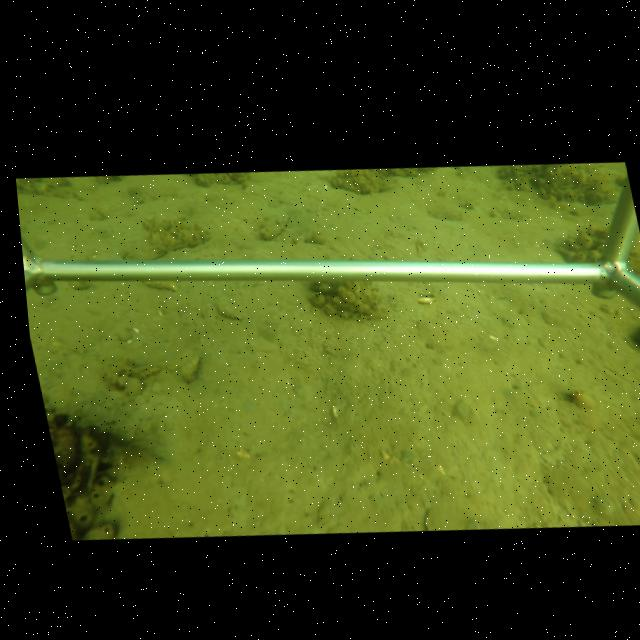Oyster-Closed: (255, 211, 293, 241)
Oyster-Indeterminate: (119, 221, 214, 260), (208, 290, 250, 322)
